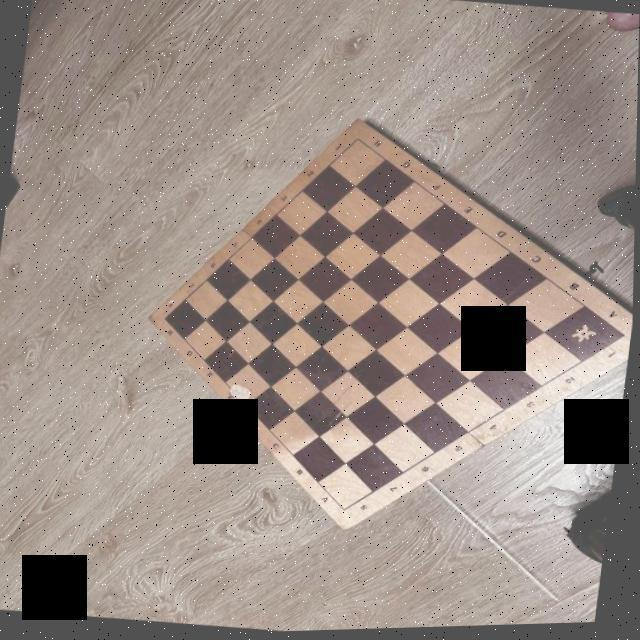chess-table-corners: (342, 507, 352, 516), (354, 136, 364, 144), (622, 335, 632, 342), (162, 316, 170, 322)
